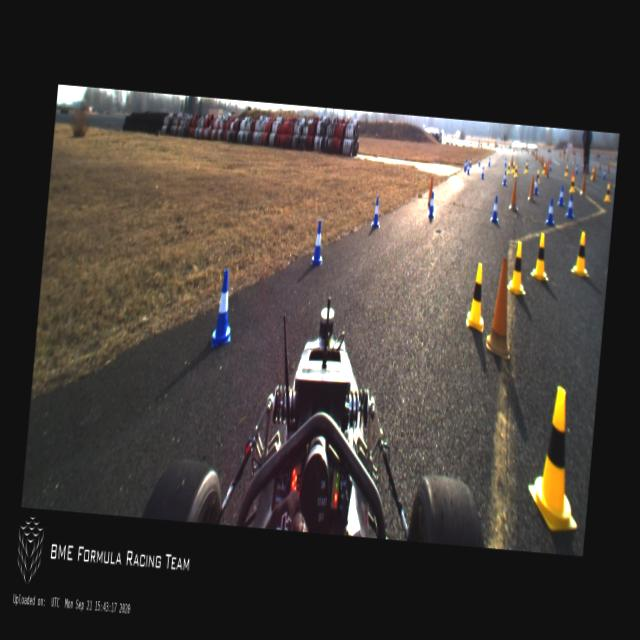blue_cone: (210, 268, 236, 349), (311, 219, 325, 265), (371, 196, 382, 228), (564, 193, 576, 218), (490, 195, 500, 223), (546, 198, 556, 225), (428, 192, 436, 218), (557, 184, 566, 206), (533, 178, 539, 194), (502, 170, 508, 185), (480, 165, 484, 178), (467, 162, 470, 174), (464, 160, 466, 170), (478, 157, 480, 166), (488, 157, 490, 166), (504, 157, 506, 166)
yellow_cone: (524, 382, 589, 534), (464, 262, 488, 332), (506, 241, 530, 294), (529, 230, 552, 280), (570, 230, 592, 277), (604, 182, 611, 202), (570, 176, 576, 192), (514, 164, 518, 176), (524, 162, 528, 173), (564, 166, 568, 176), (536, 170, 539, 182), (507, 163, 510, 174), (542, 164, 545, 174), (512, 162, 514, 172)
